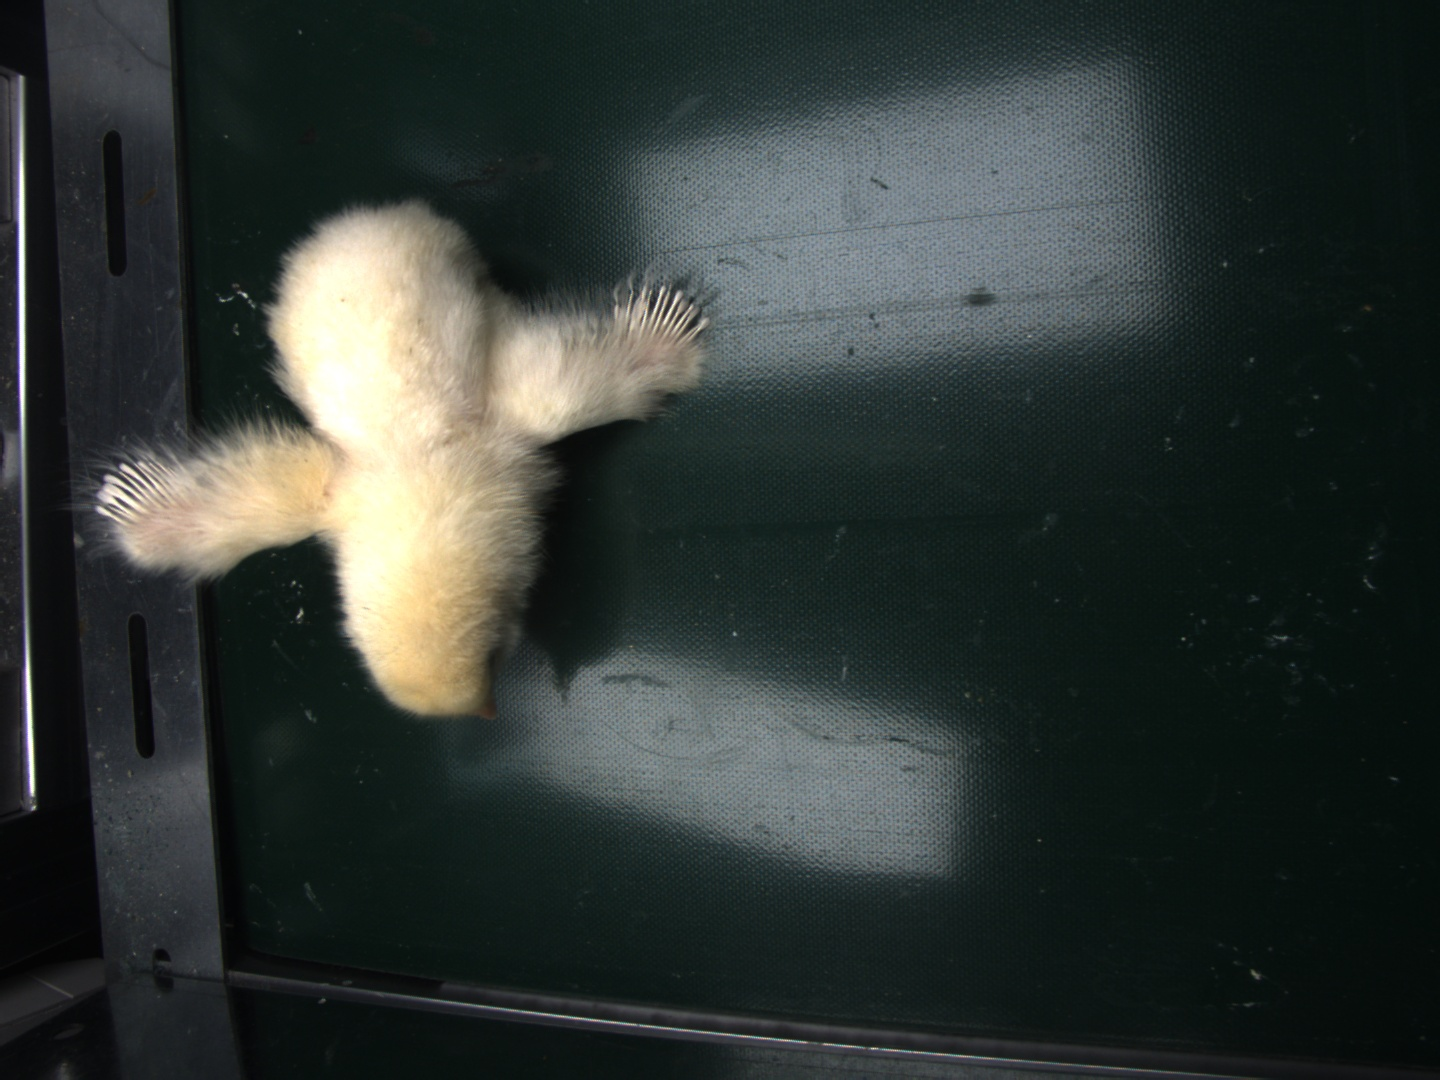male: (94, 448, 183, 528), (622, 278, 710, 346)
